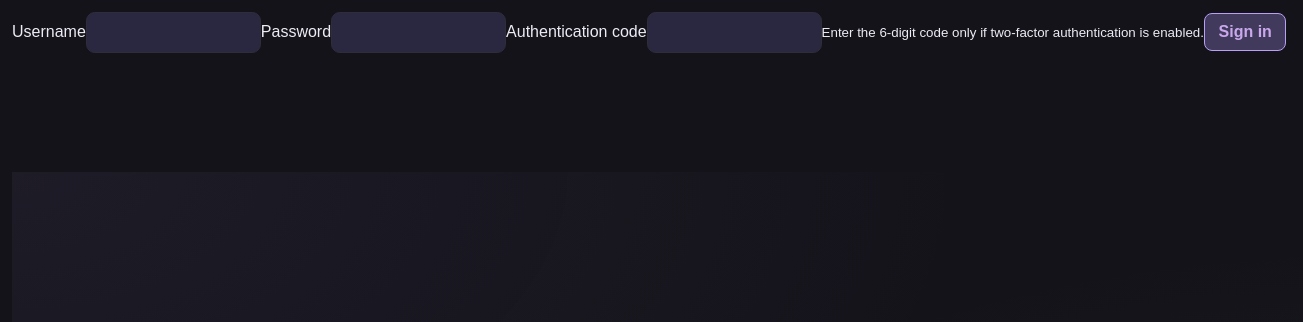
Test: LoginForm › shows the generic error for invalid credentials
In the field labelled "Username": (173,32) 86,12 -> 261,53, type "alice"
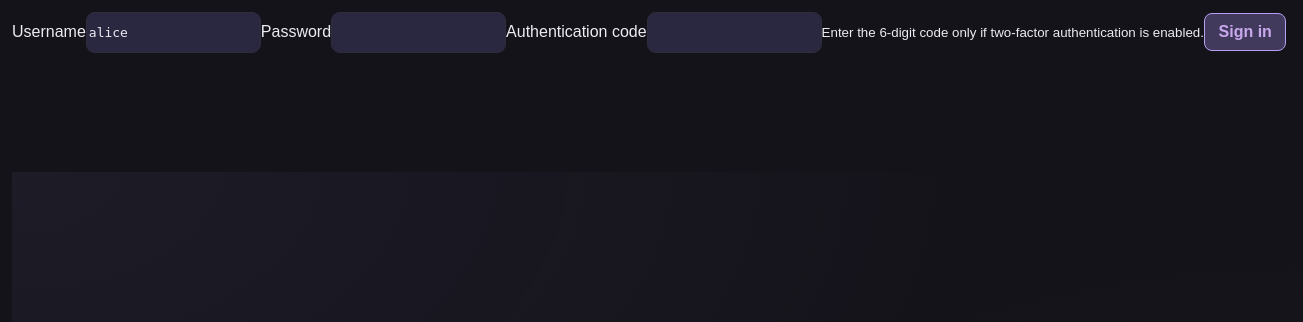
In the password field labelled "Password": (419,32) 331,12 -> 506,53, type "wrong-password"
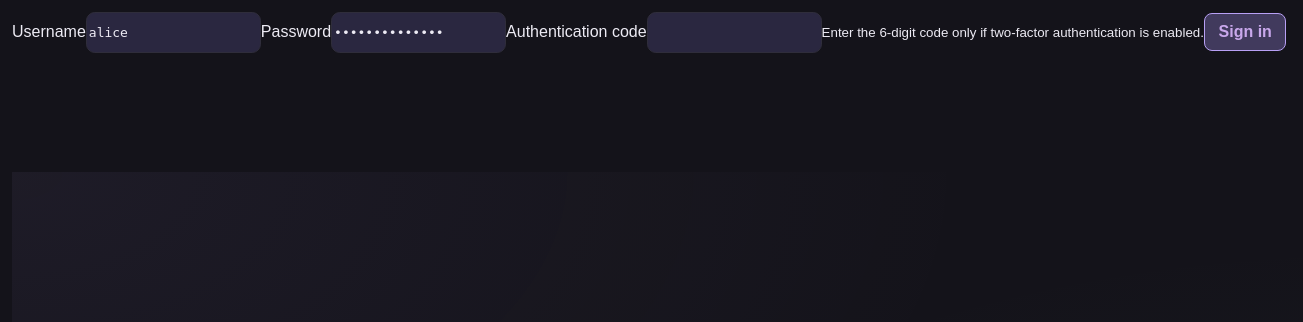
Click the button "Sign in": (1245,32) 1204,13 -> 1286,51
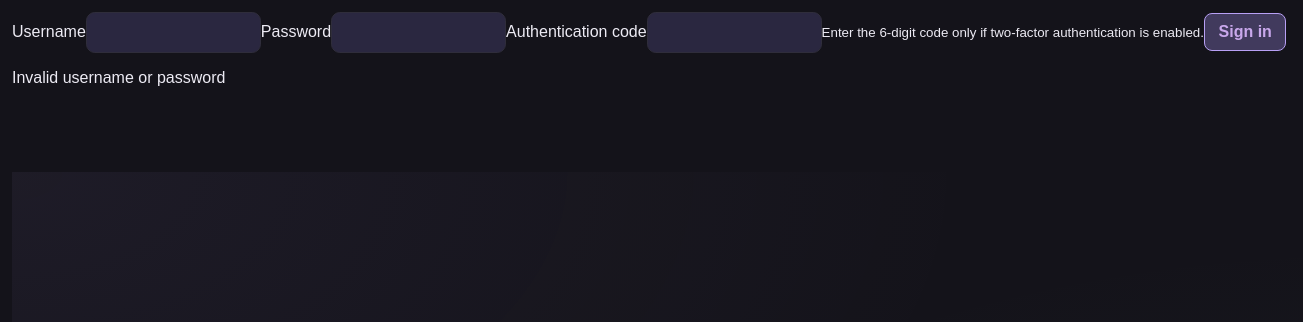
Check: the message reads "Invalid username or password", box 12,69 -> 225,86
